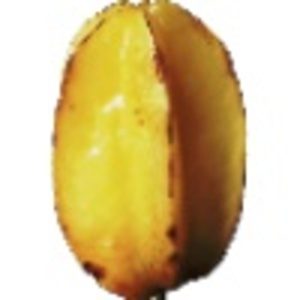carambola: (49, 1, 250, 300)
